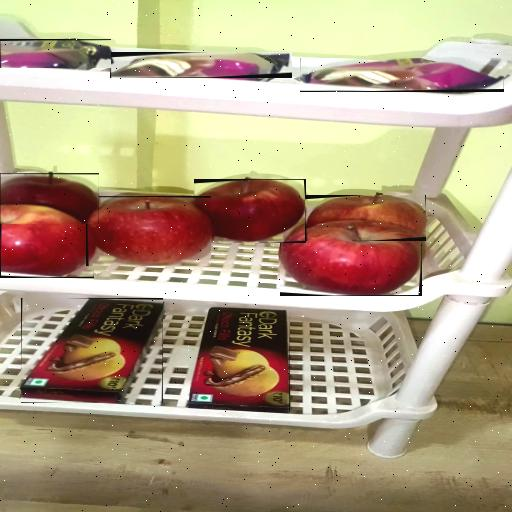Apple: (280, 221, 422, 296), (86, 196, 211, 266), (194, 179, 306, 243), (0, 204, 94, 278), (305, 195, 426, 241), (0, 173, 99, 224)
Choco Fills: (21, 298, 163, 403), (190, 308, 290, 412)
Choco Pie: (300, 58, 504, 92), (110, 52, 292, 78), (0, 39, 111, 68)
